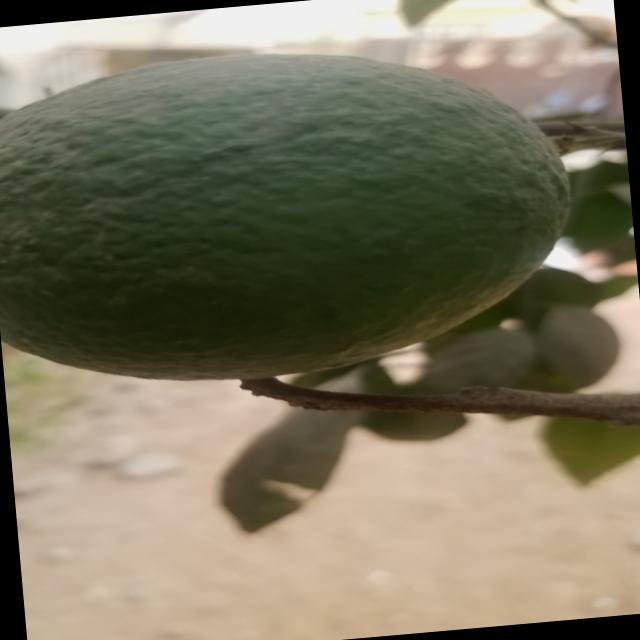Unripe: (0, 25, 575, 402)
